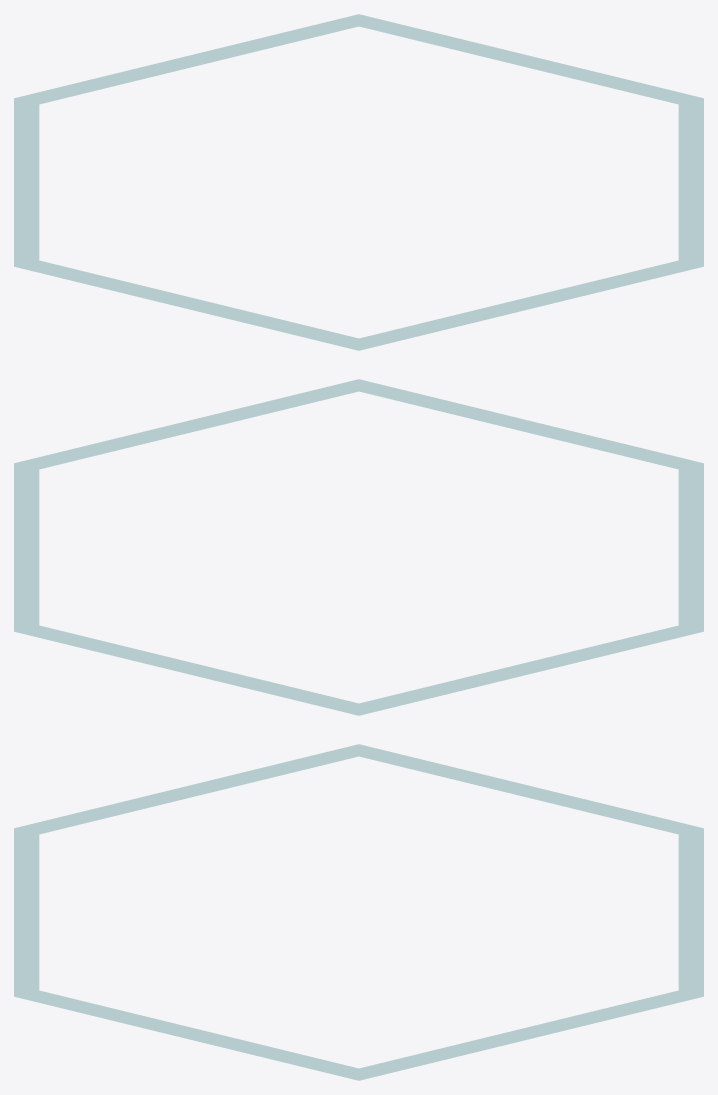
Rendered from 2D_Altgen_Kontur.fbx.
The picture shows the model from 3 angles, top to bottom: view 1: azimuth 30°, elevation 25°; view 2: azimuth 150°, elevation 25°; view 3: azimuth 270°, elevation 25°; orthographic projection.
Visible parts, largest first — view 1: Circle; view 2: Circle; view 3: Circle.
Boxes of the visible parts, x1,y1,x2,y2 form: Circle: (14,14,703,350); Circle: (14,379,703,715); Circle: (14,744,703,1080).
Size of the model in its own units: 46.06 by 6.5e-06 by 39.88.
